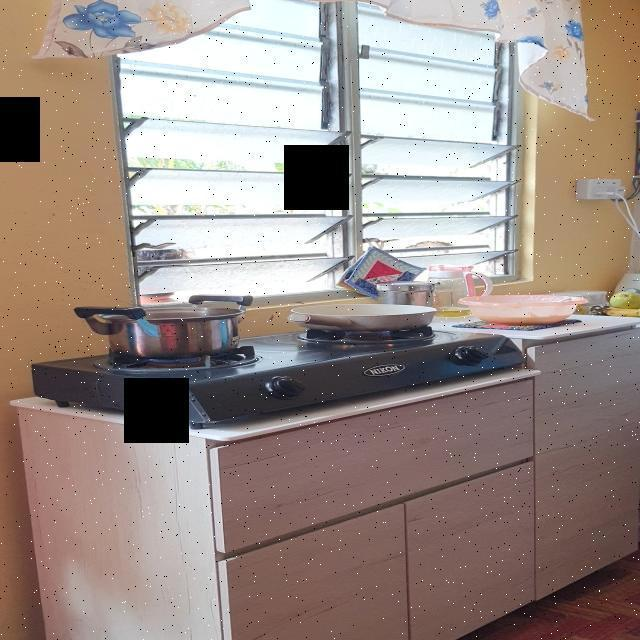Pan: (80, 304, 266, 358), (462, 293, 600, 319), (291, 305, 443, 328)
